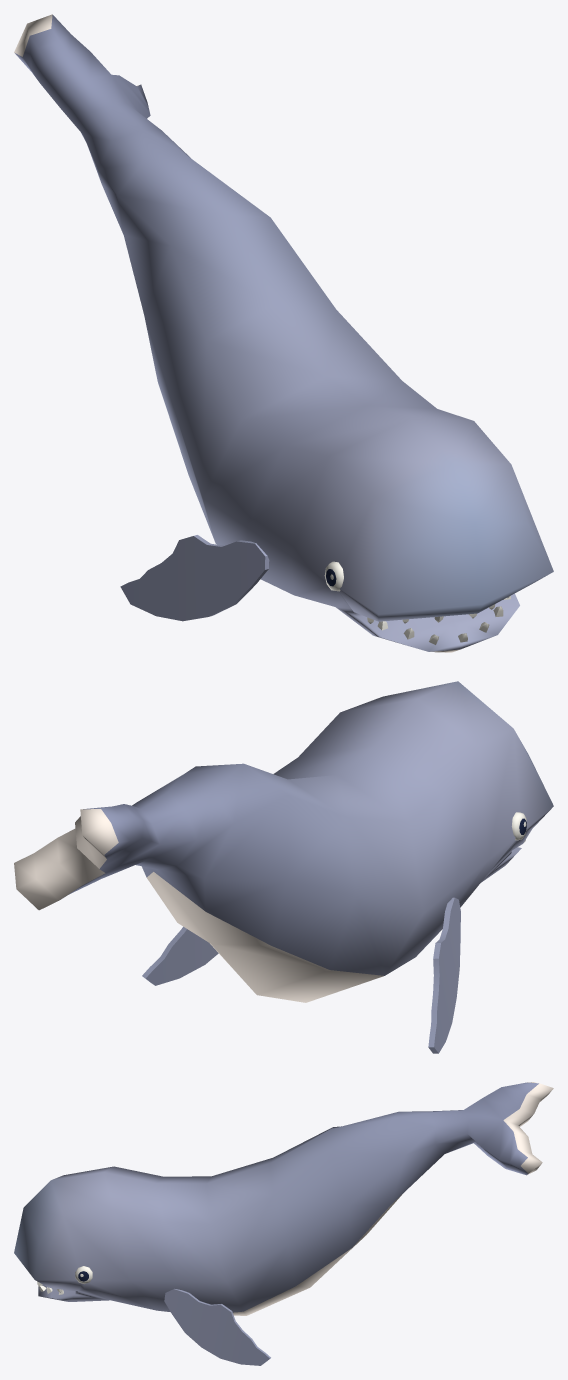
3 views of the same model, one above another, from view 1: azimuth 30°, elevation 25°; view 2: azimuth 150°, elevation 25°; view 3: azimuth 270°, elevation 25° (orthographic). The views are drawn at different scales.
Parts seen in each view (by area): view 1: Fish_Livyatan; view 2: Fish_Livyatan; view 3: Fish_Livyatan.
Part boxes in pixels (bbox=[...]): Fish_Livyatan: bbox=[14, 14, 553, 652]; Fish_Livyatan: bbox=[14, 681, 553, 1053]; Fish_Livyatan: bbox=[14, 1082, 553, 1365].
Bounding box in the file's own units: 101 × 123 × 252.
